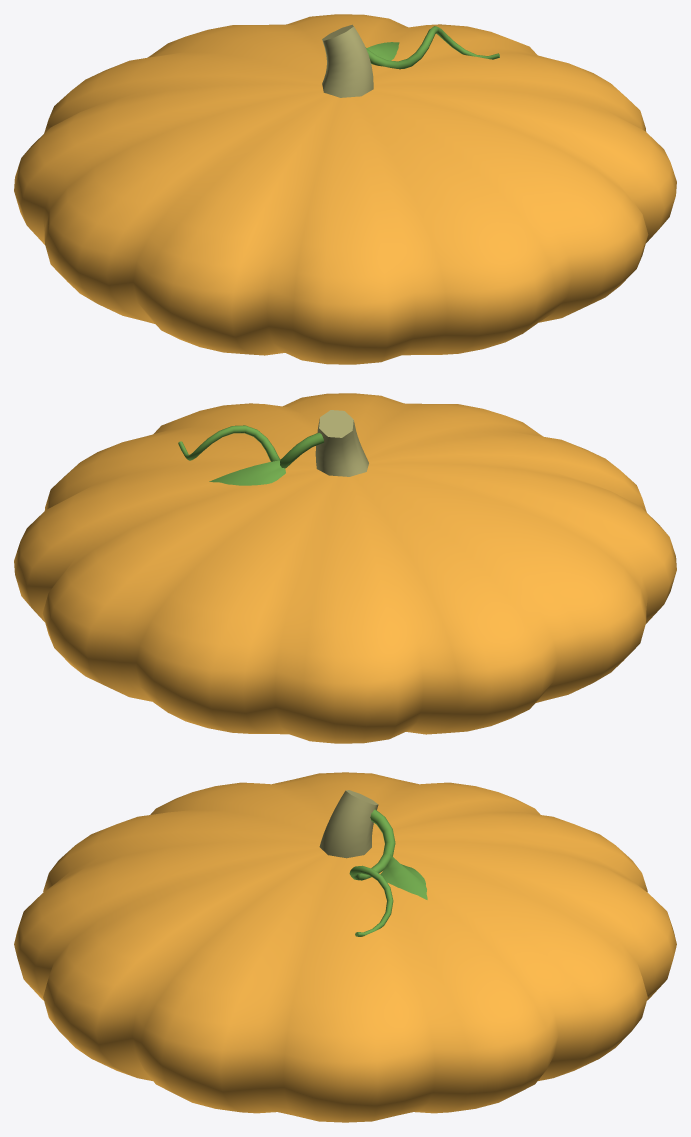
Rendered from kuerbis.glb.
The picture shows the model from 3 angles, top to bottom: view 1: azimuth 30°, elevation 25°; view 2: azimuth 150°, elevation 25°; view 3: azimuth 270°, elevation 25°; orthographic projection.
Visible parts, largest first — view 1: kuerbis_lod0; view 2: kuerbis_lod0; view 3: kuerbis_lod0.
Part boxes in pixels (<box>): kuerbis_lod0: <box>14,14,676,364</box>; kuerbis_lod0: <box>14,393,676,743</box>; kuerbis_lod0: <box>14,772,676,1122</box>.
Size of what is drawn, in the model's own units: 2 by 0.8853 by 2.
